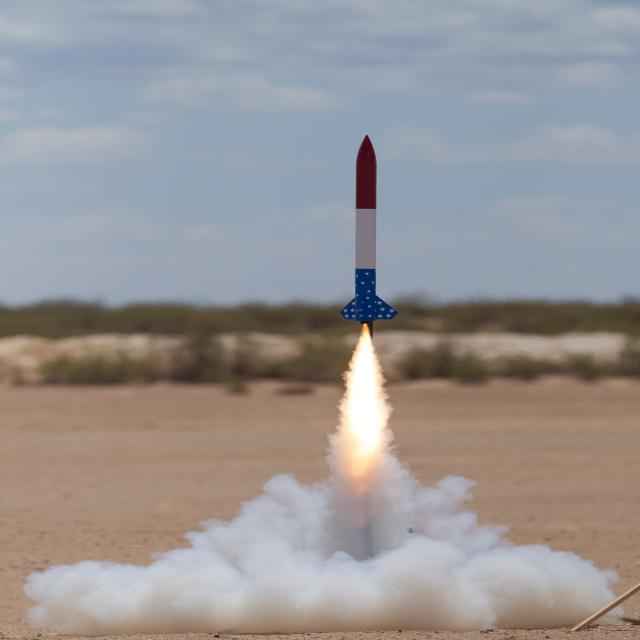Rocket: (339, 134, 400, 324)
